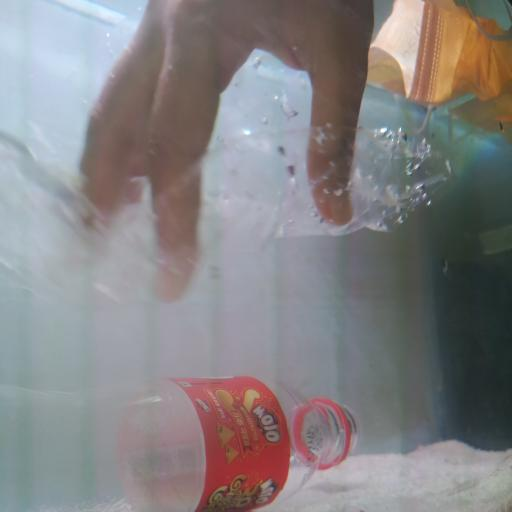mask: (362, 0, 512, 109)
plastic_bag: (2, 83, 459, 319)
plastic_bottle: (5, 377, 365, 512)
